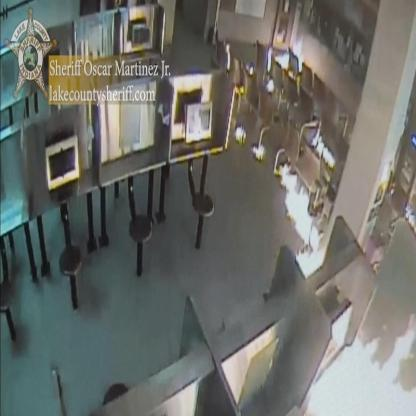fire: (305, 316, 416, 416), (279, 165, 324, 279), (274, 37, 305, 73)
